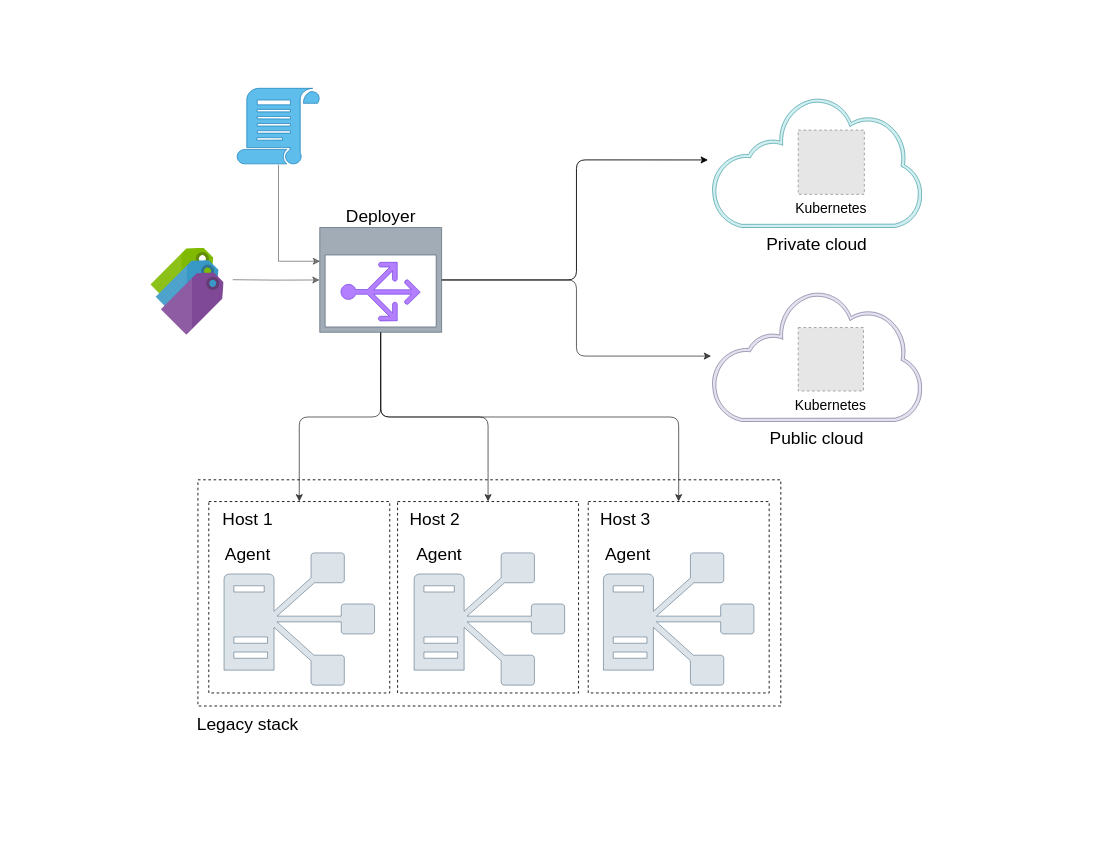
Some shapes in this 1100 by 842 pixel diagram are drawn without their labels. Grey dashed boxes stand in for pictures. Here are the shapes that lost their labels. From the top down, the centre of each, then its label:
At point (278, 126): "Policies".
At point (187, 291): "Tags".
